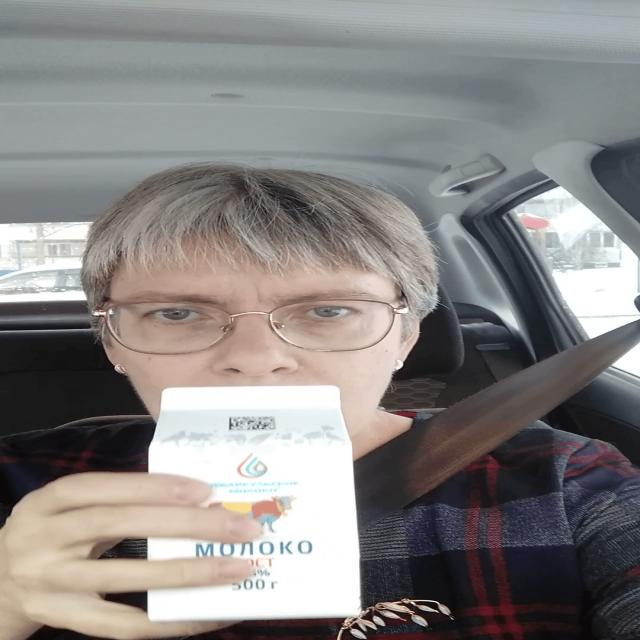3: (358, 324, 640, 555)
Seatbelt: (109, 376, 387, 630)
